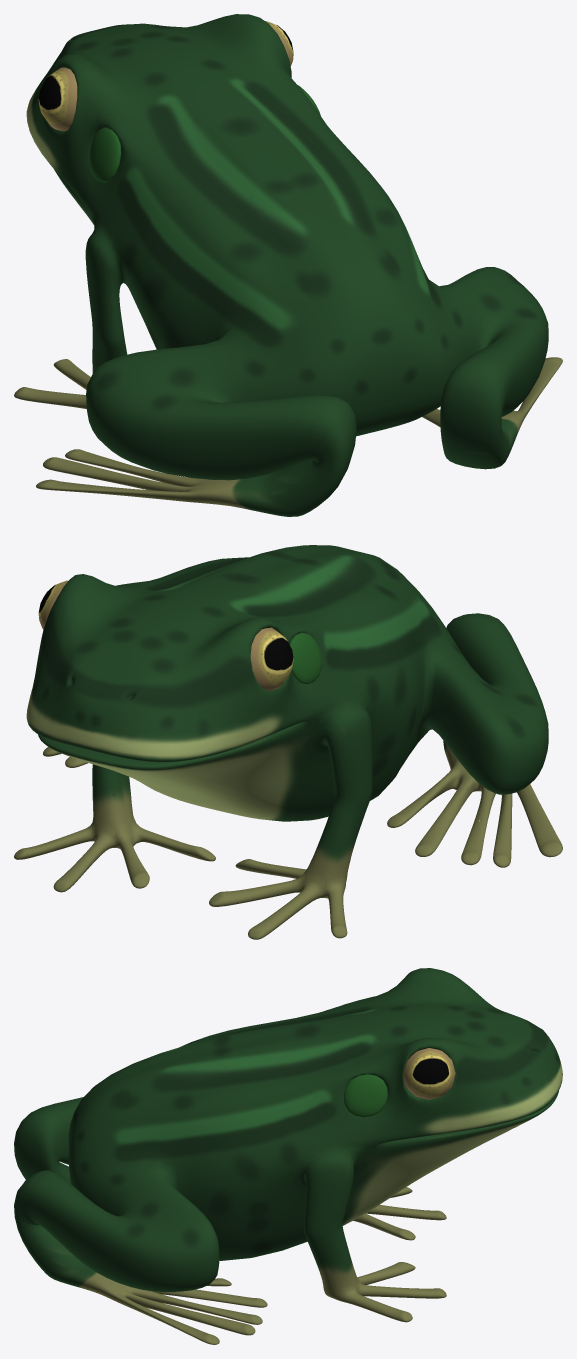
Rendered from frog.fbx.
The picture shows the model from 3 angles, top to bottom: view 1: azimuth 30°, elevation 25°; view 2: azimuth 150°, elevation 25°; view 3: azimuth 270°, elevation 25°; orthographic projection. The views are drawn at different scales.
Parts seen in each view (by area): view 1: frog, eyes, ear; view 2: frog, eyes, ear; view 3: frog, eyes, ear.
Part boxes in pixels (box(x1,y1,x2,y2)): frog: box(14, 14, 562, 516); eyes: box(38, 21, 293, 131); ear: box(89, 85, 320, 182); frog: box(14, 545, 562, 939); eyes: box(38, 580, 293, 690); ear: box(289, 632, 322, 684); frog: box(14, 968, 562, 1344); eyes: box(403, 1048, 455, 1099); ear: box(343, 1074, 387, 1117).
Size of the model in its own units: 420 by 236 by 464.
